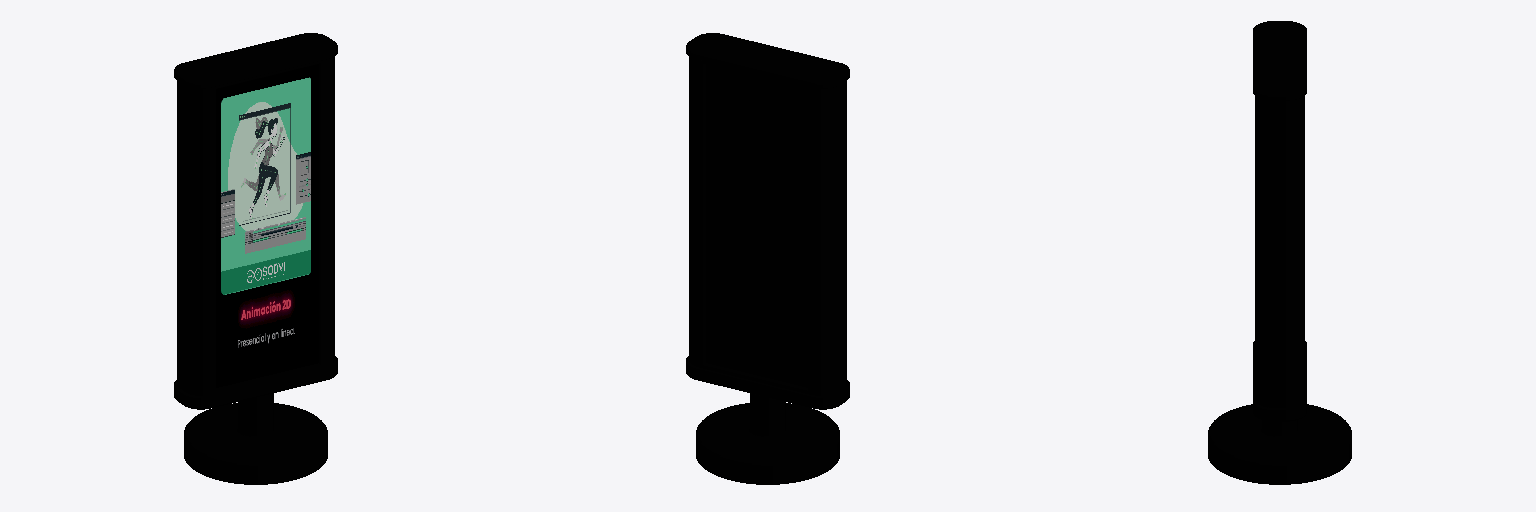
The picture shows the model from 3 angles: view 1: azimuth 30°, elevation 25°; view 2: azimuth 150°, elevation 25°; view 3: azimuth 270°, elevation 25°; orthographic projection.
Visible parts, largest first — view 1: CityLight; view 2: CityLight; view 3: CityLight.
Boxes of the visible parts, box(x1,y1,x2,y2) form: CityLight: box(174, 33, 337, 484); CityLight: box(686, 33, 849, 484); CityLight: box(1208, 21, 1351, 484).
Size of the model in its own units: 1.63 by 4.03 by 1.33.
Materials: 2 (1 with a texture image).